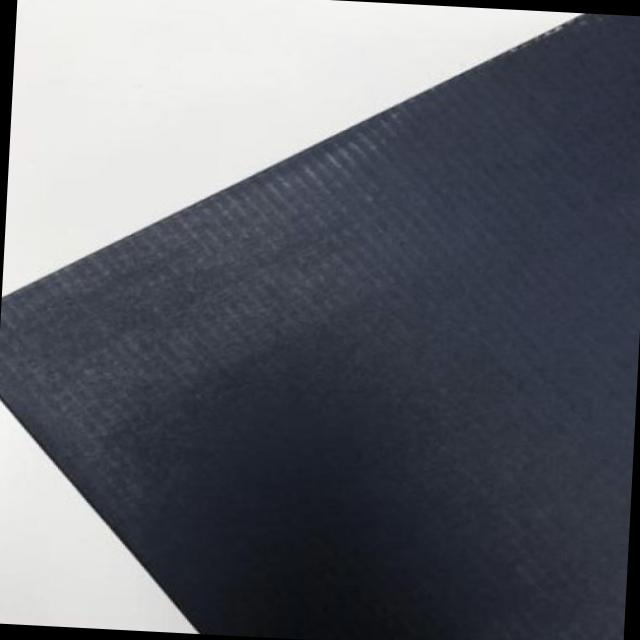cardboard paper: (0, 14, 640, 640)
